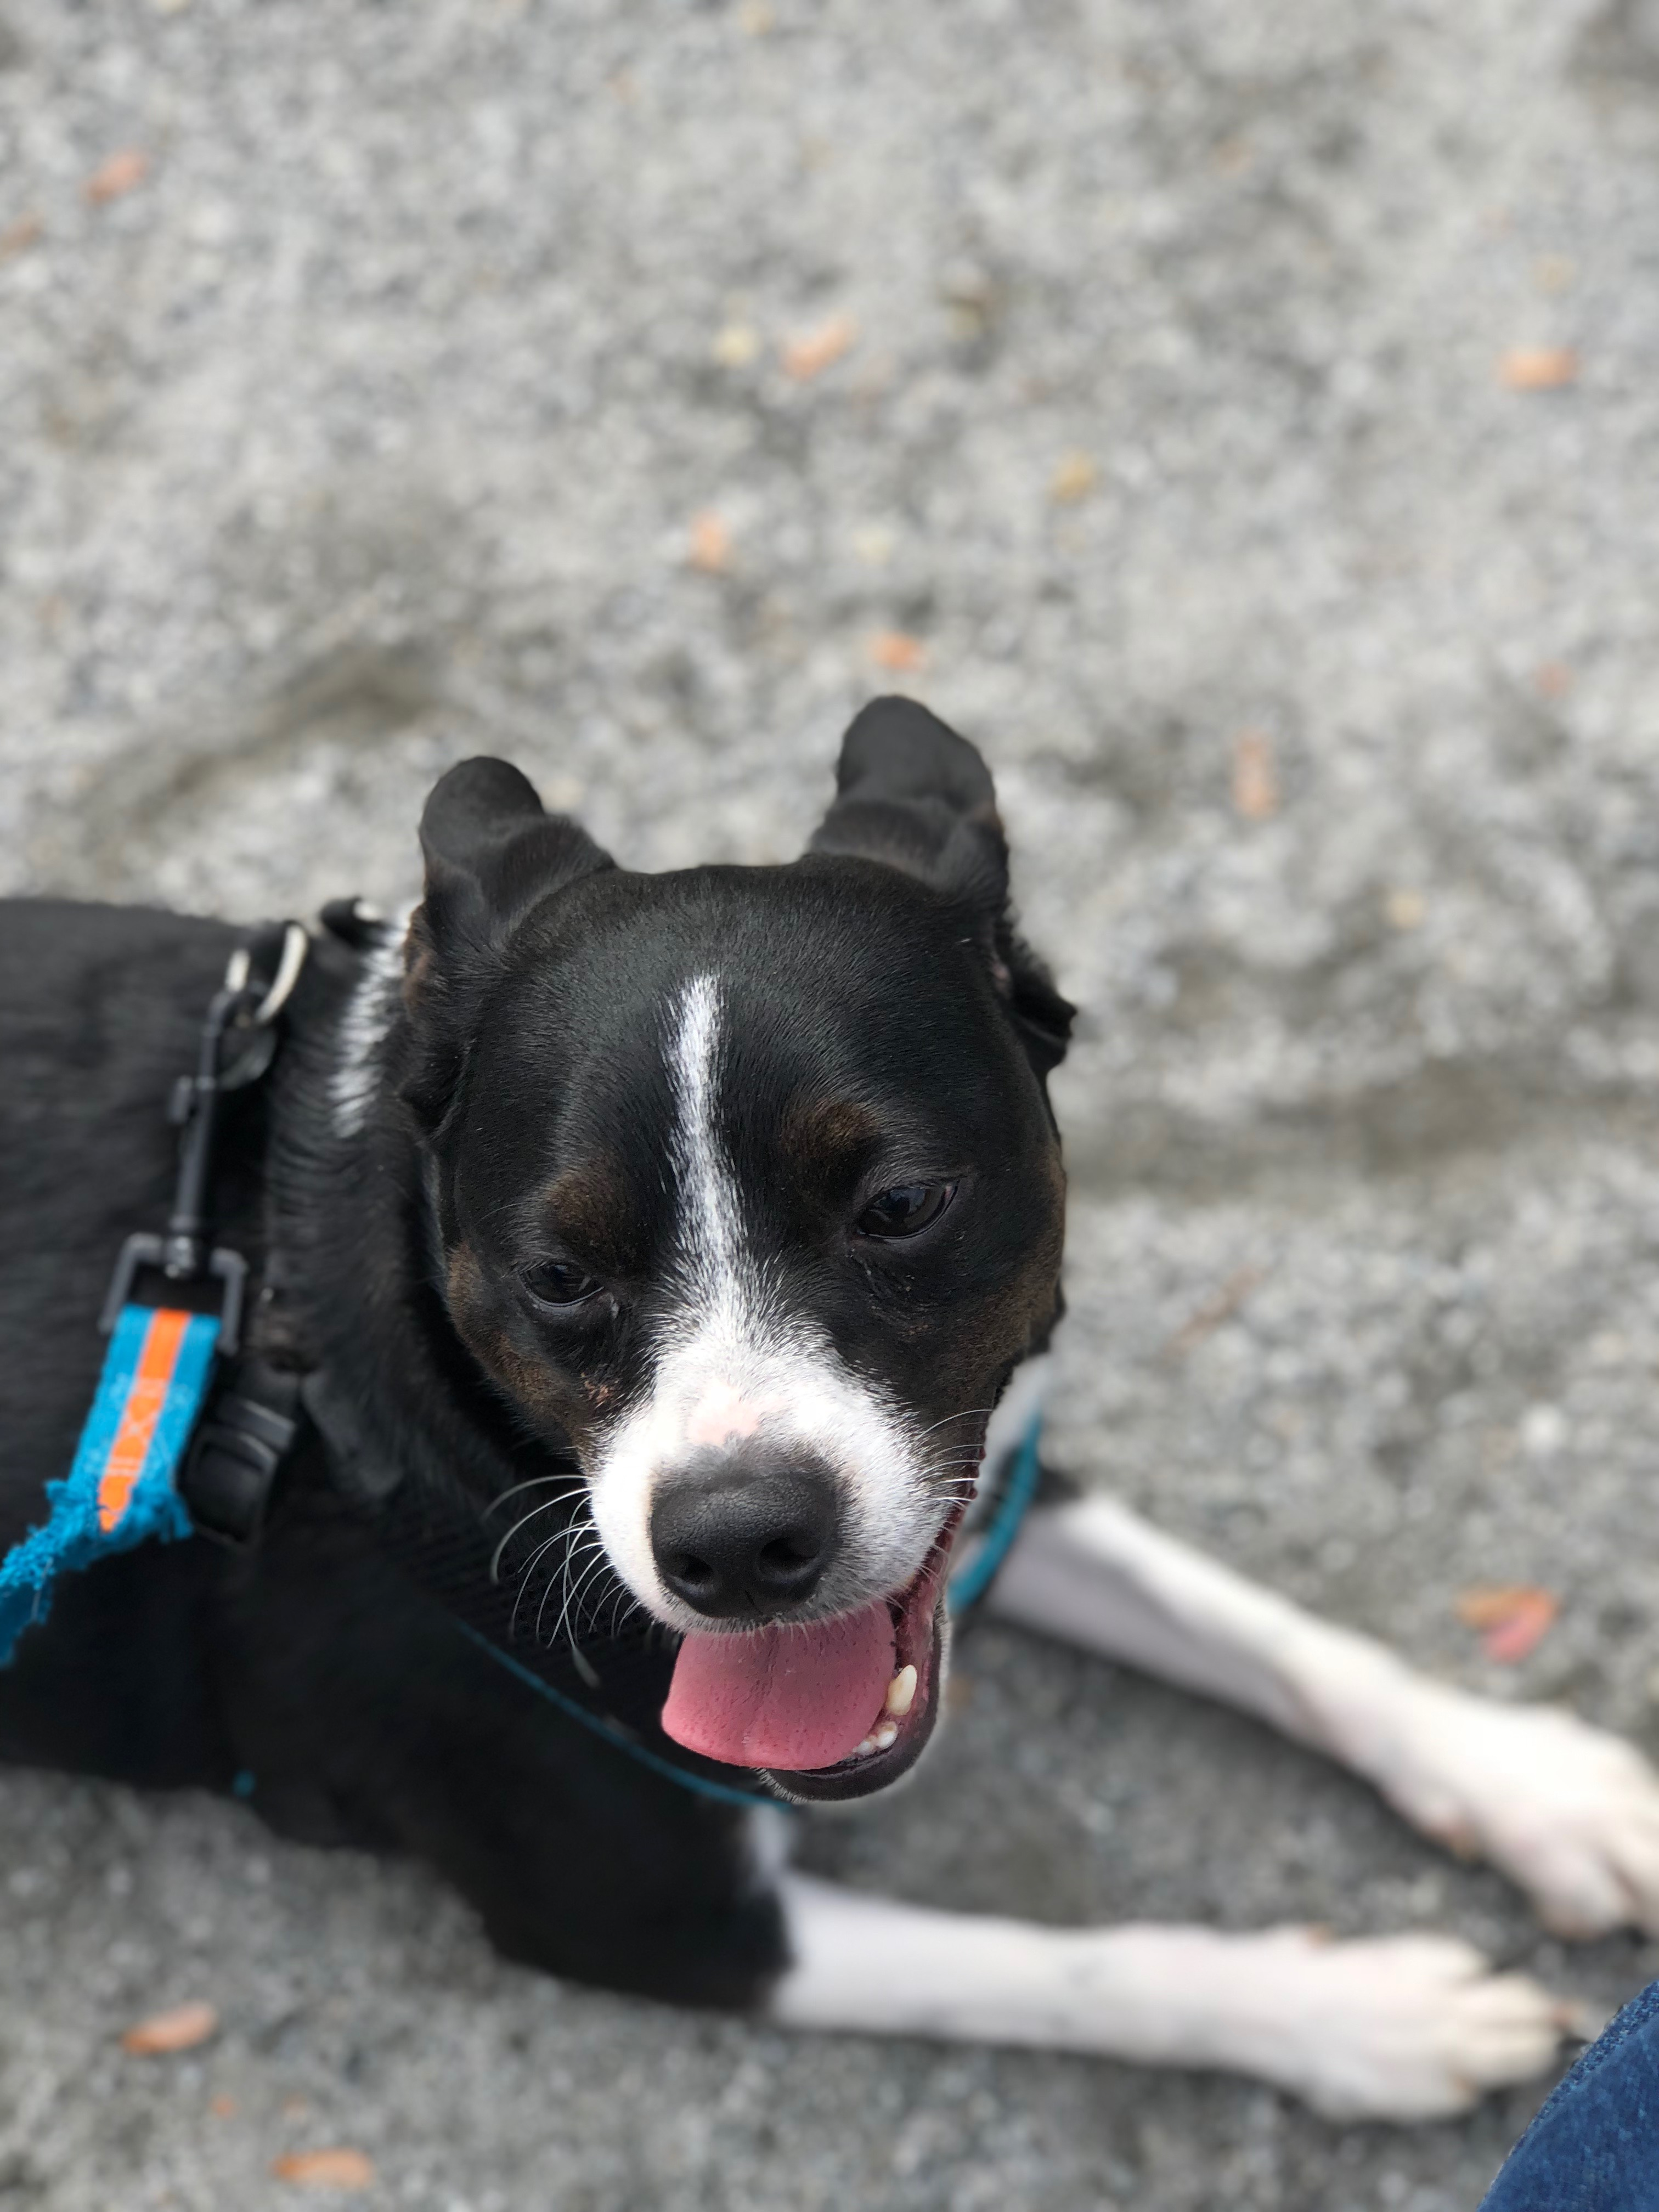Harley: (0, 711, 1621, 2104)
